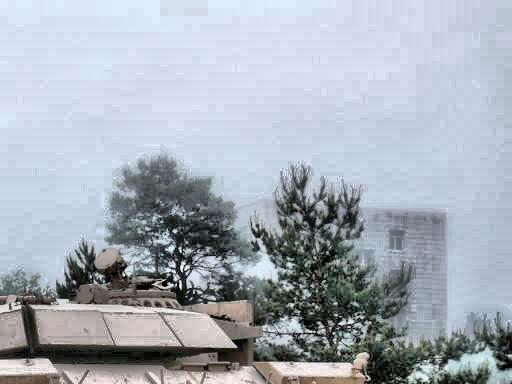tanks: (1, 251, 371, 384)
